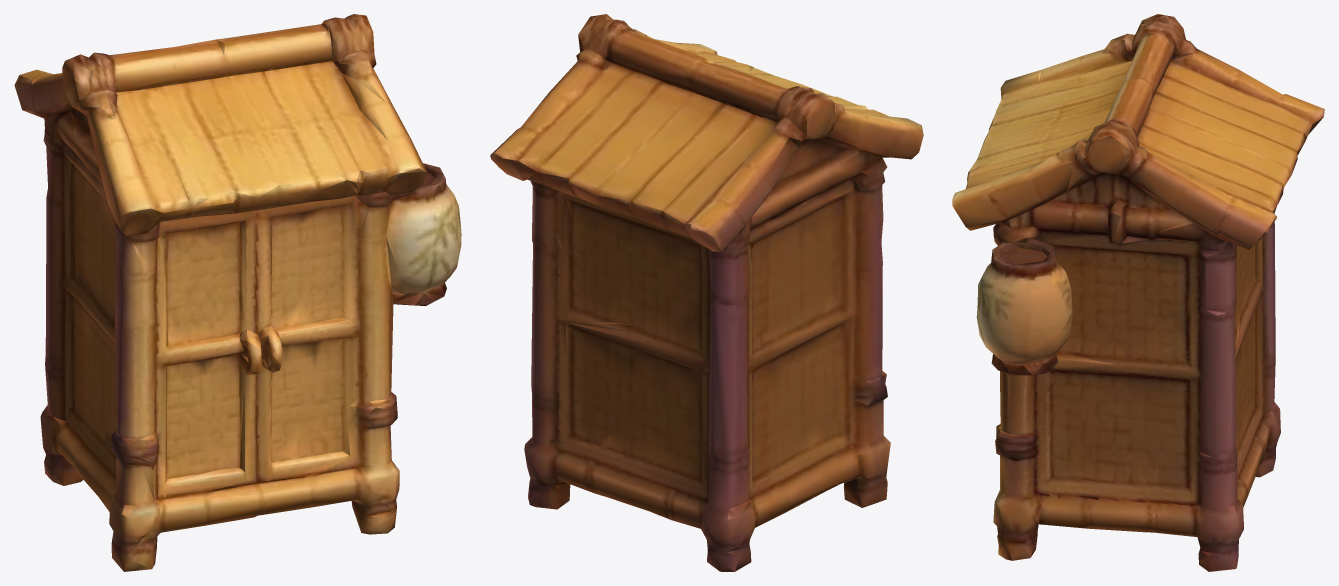
The model's file is cabinet12.glb.
The picture shows the model from 3 angles, left to right: view 1: azimuth 30°, elevation 25°; view 2: azimuth 150°, elevation 25°; view 3: azimuth 270°, elevation 25°; orthographic projection. The views are drawn at different scales.
Size of the model in its own units: 0.2186 by 0.2876 by 0.2206.
1 material, 1 textured.
